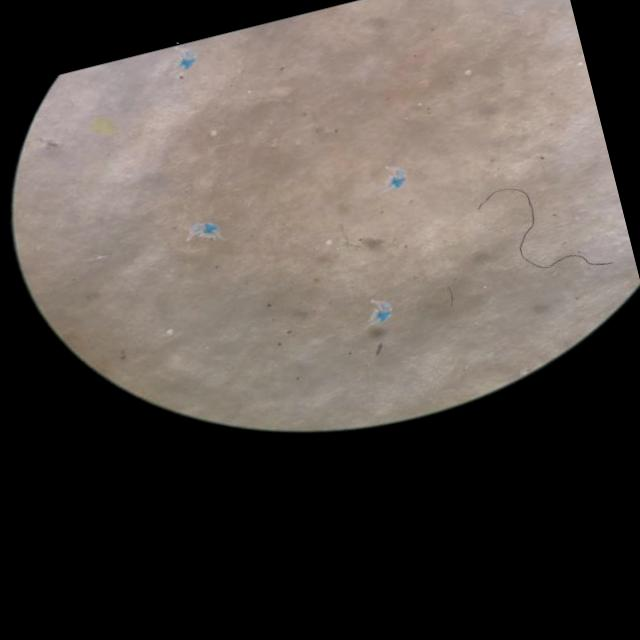fiber: (479, 189, 611, 269)
film: (190, 222, 219, 230), (372, 304, 389, 317), (388, 169, 405, 182)
fragment: (91, 119, 114, 135)
pellet: (165, 328, 173, 335), (464, 70, 471, 75), (325, 240, 331, 245), (211, 131, 216, 136)
